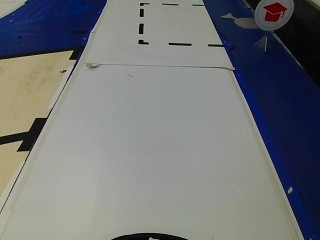school: (255, 0, 294, 31)
